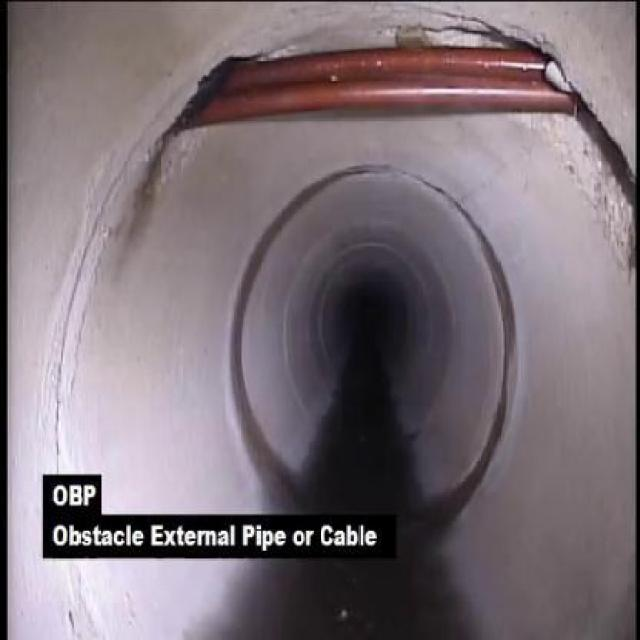Utility intrusion: (164, 20, 598, 149)
